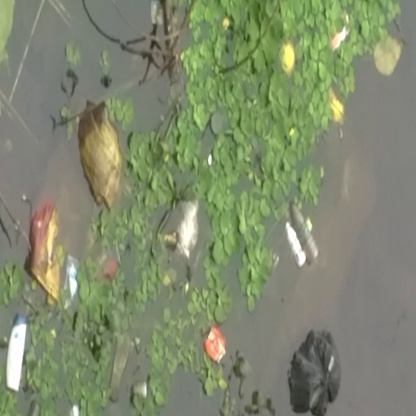plastic-garbage: (72, 104, 129, 204), (22, 203, 63, 297), (163, 198, 203, 268)
